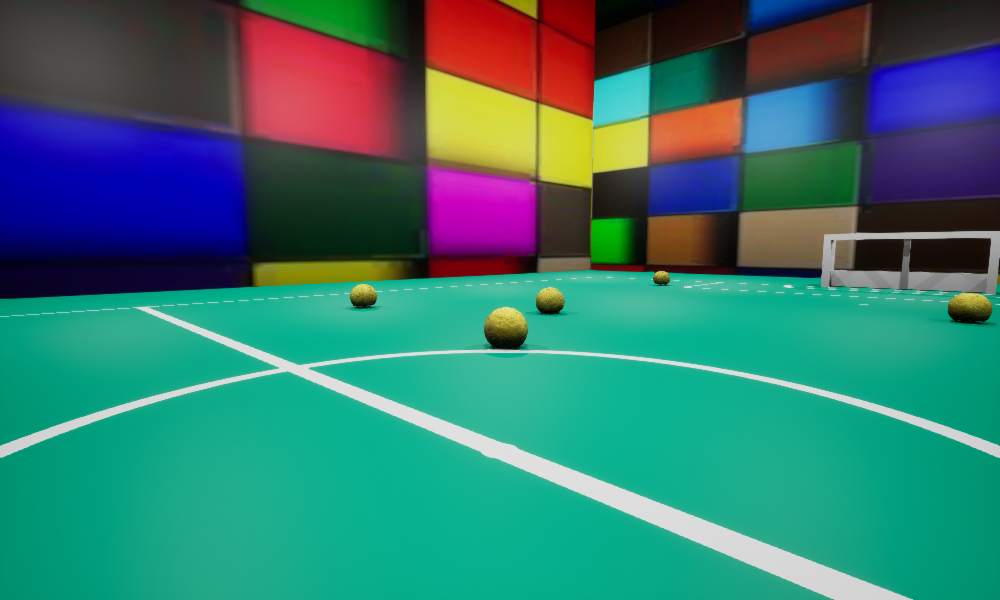b: (484, 307, 527, 348), (948, 293, 992, 322), (536, 287, 564, 313), (350, 284, 376, 307), (653, 271, 669, 284)
g: (821, 231, 999, 294)
